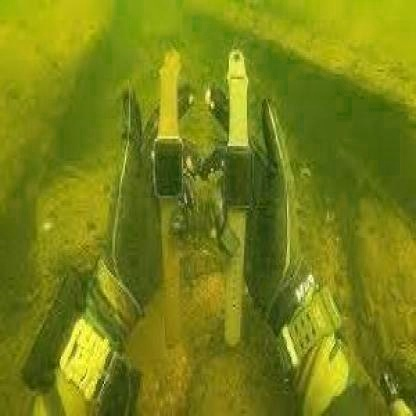electronics: (157, 47, 187, 347), (223, 50, 250, 344)
